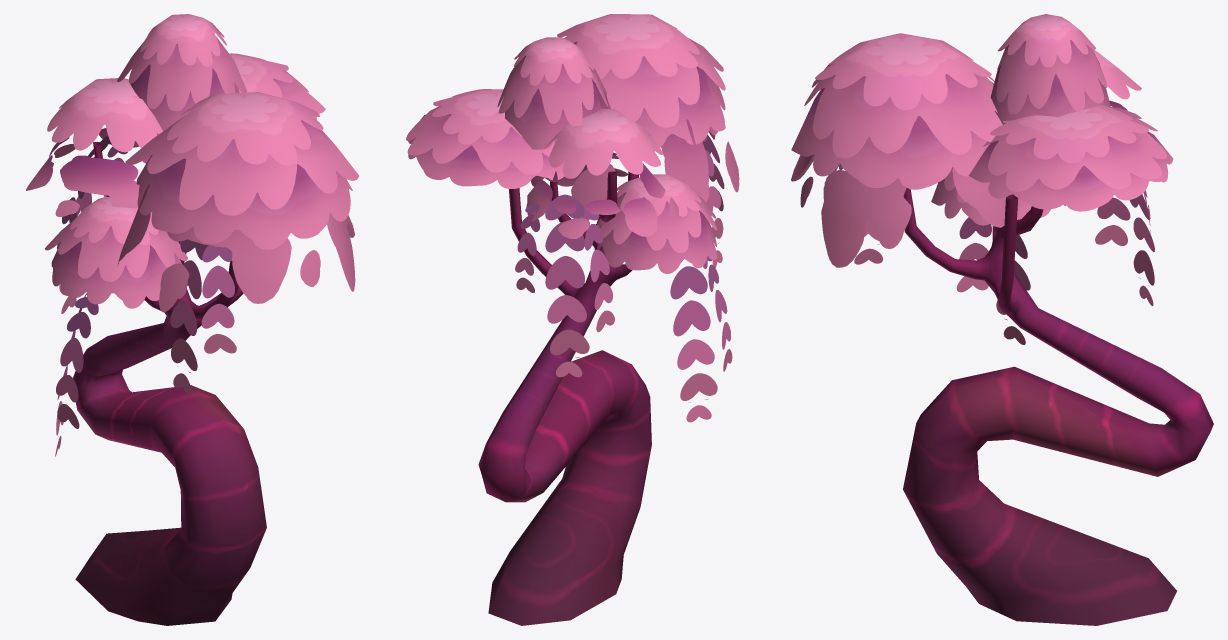
File: SM_Tree_MediumS.fbx
The picture shows the model from 3 angles, left to right: view 1: azimuth 30°, elevation 25°; view 2: azimuth 150°, elevation 25°; view 3: azimuth 270°, elevation 25°; orthographic projection. The views are drawn at different scales.
Parts seen in each view (by area): view 1: SM_Tree_MediumS_Leaves, SM_Tree_MediumS_Trunk, SM_Tree_MediumS_DroopingPlants; view 2: SM_Tree_MediumS_Leaves, SM_Tree_MediumS_Trunk, SM_Tree_MediumS_DroopingPlants; view 3: SM_Tree_MediumS_Leaves, SM_Tree_MediumS_Trunk, SM_Tree_MediumS_DroopingPlants.
Boxes of the visible parts, x1,y1,x2,y2 form: SM_Tree_MediumS_Leaves: [26, 14, 358, 312]; SM_Tree_MediumS_Trunk: [73, 142, 266, 625]; SM_Tree_MediumS_DroopingPlants: [55, 136, 236, 456]; SM_Tree_MediumS_Leaves: [406, 14, 739, 273]; SM_Tree_MediumS_Trunk: [478, 171, 651, 625]; SM_Tree_MediumS_DroopingPlants: [515, 131, 732, 422]; SM_Tree_MediumS_Leaves: [791, 14, 1173, 267]; SM_Tree_MediumS_Trunk: [903, 188, 1213, 625]; SM_Tree_MediumS_DroopingPlants: [834, 163, 1154, 344].
Bounding box in the file's own units: 6.63 × 12.05 × 8.18.
